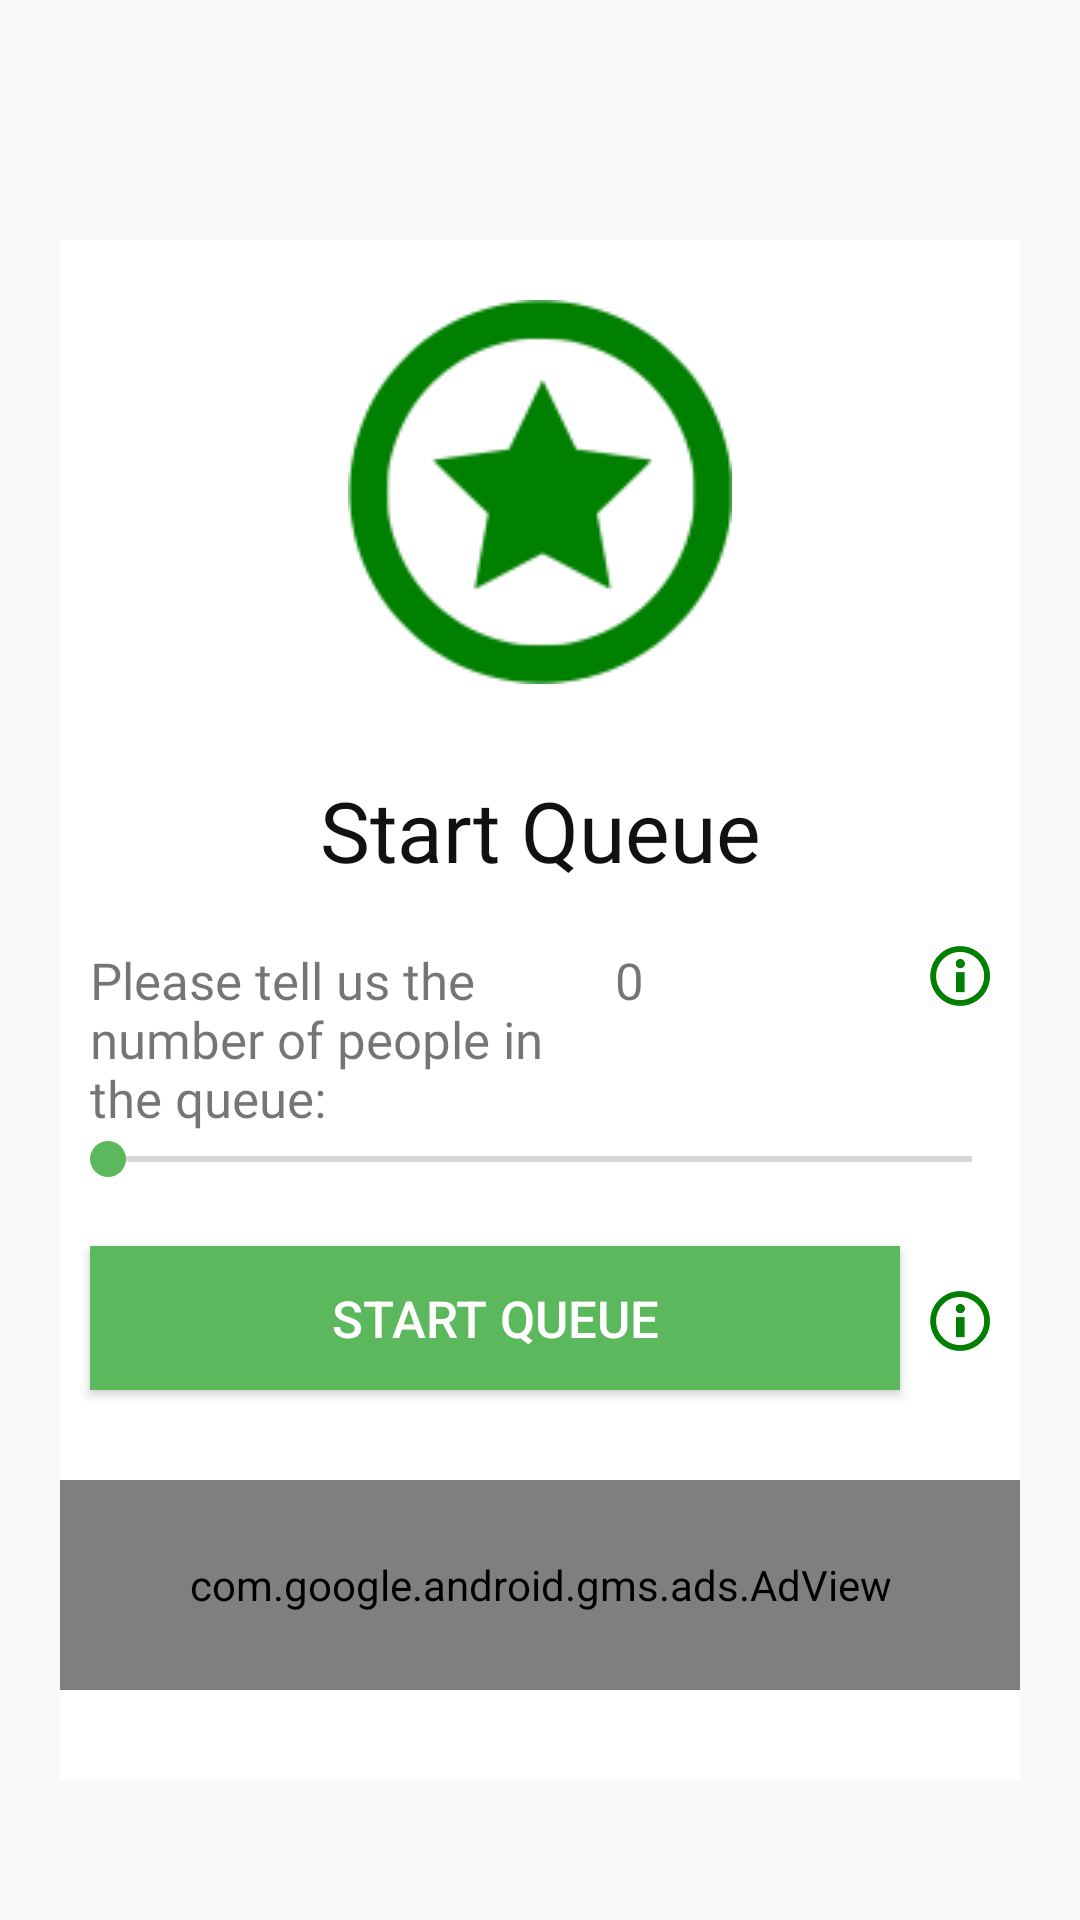

Screen size 1080px x 1920px. Icon name, then its center in pixels as [x,y]:
infomation: [960,976], [960,1321]
